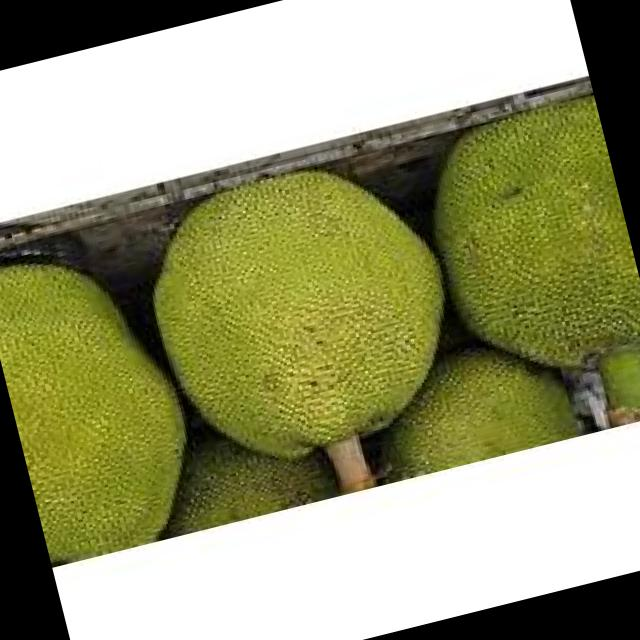Fruit: (107, 126, 493, 506), (0, 204, 225, 570), (396, 80, 640, 410)
